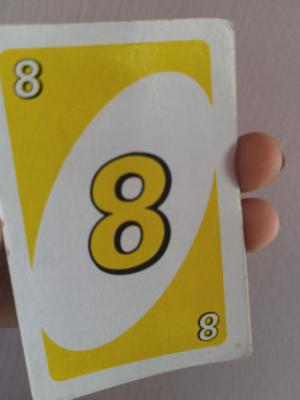num_8: (168, 289, 228, 348)
yellow: (0, 45, 73, 195)
